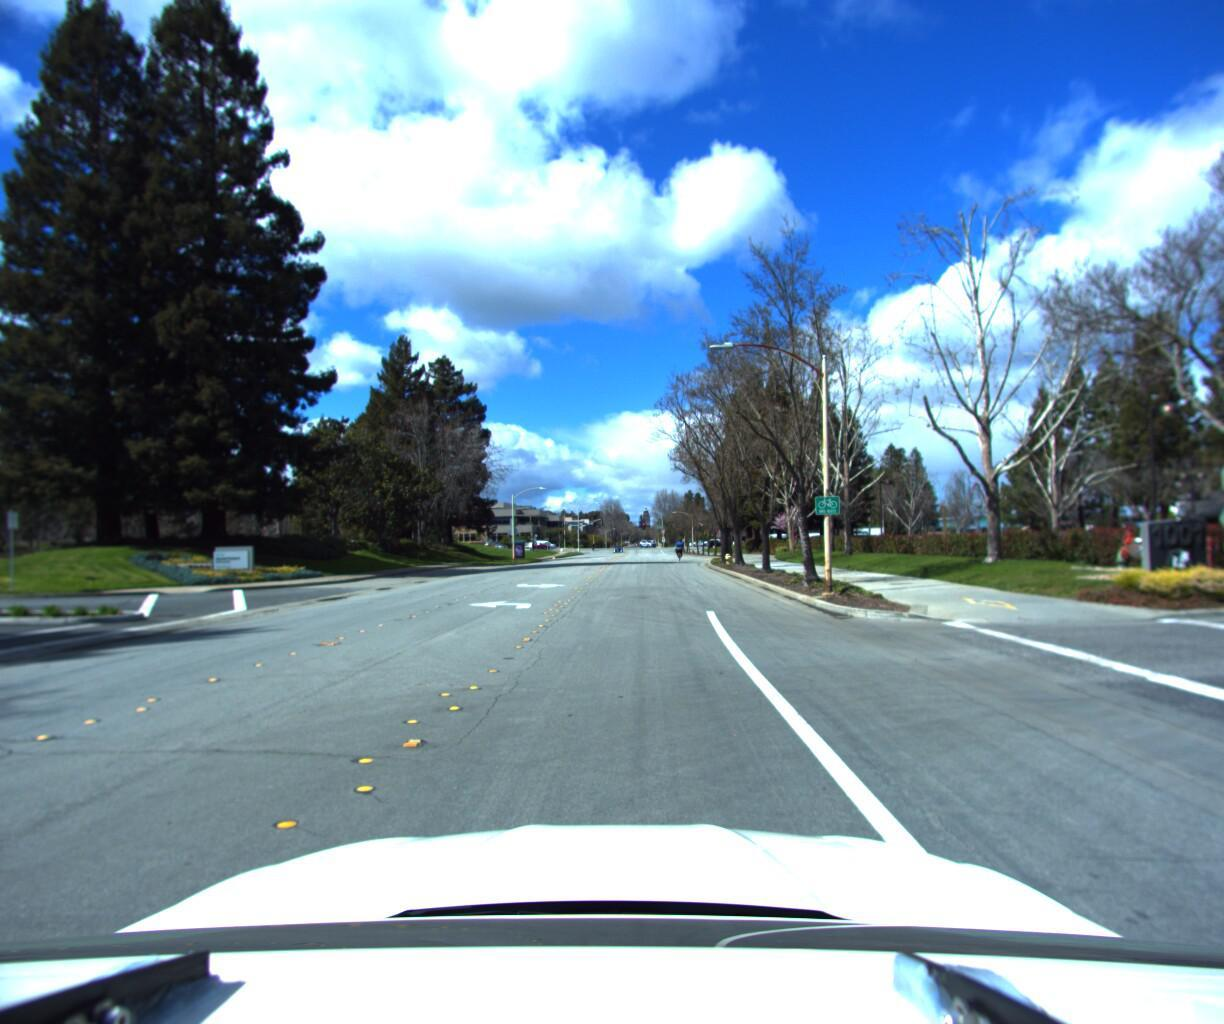bicycle: (673, 537, 684, 561)
